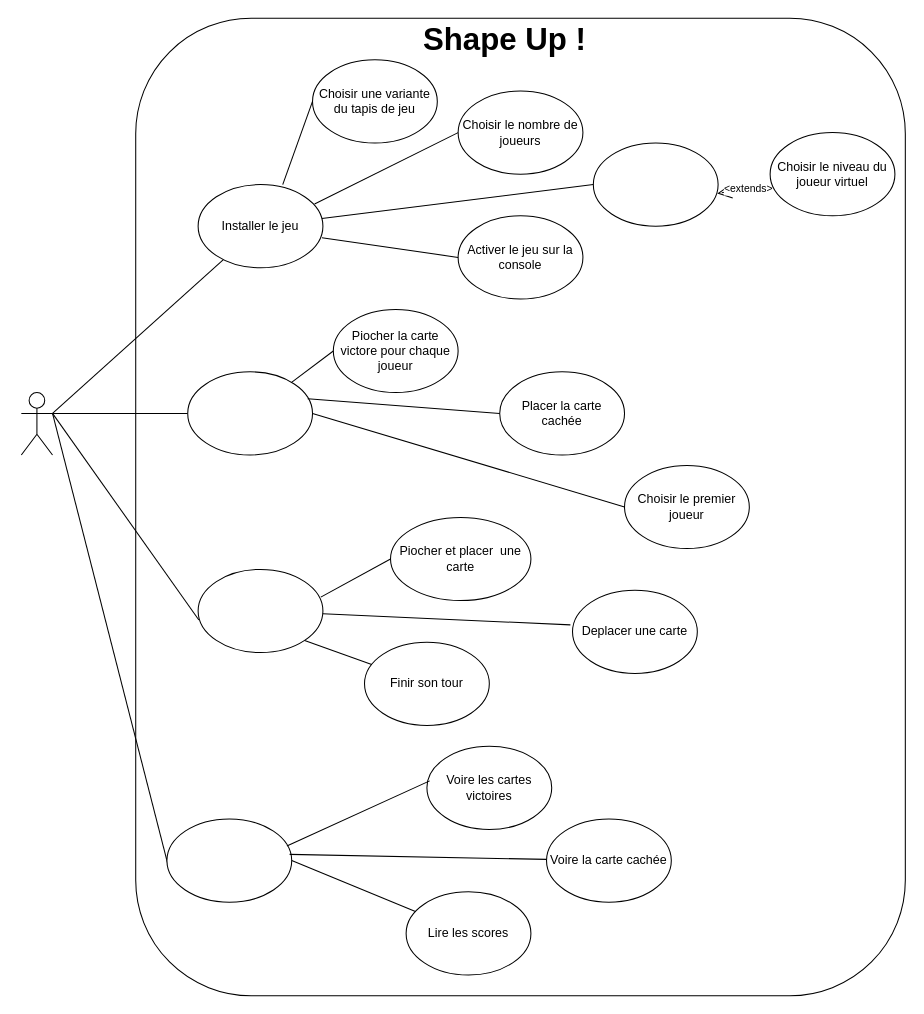
This 924x1014 diagram has some shape labels left out. Each missing label, with the box of its shape:
Activer le joueur virtuel: (592, 142, 718, 226)
Finir la partie: (166, 818, 292, 902)
Installer son tour: (187, 371, 313, 455)
Jouer son tour: (197, 568, 323, 653)
Joueur: (20, 392, 53, 455)
